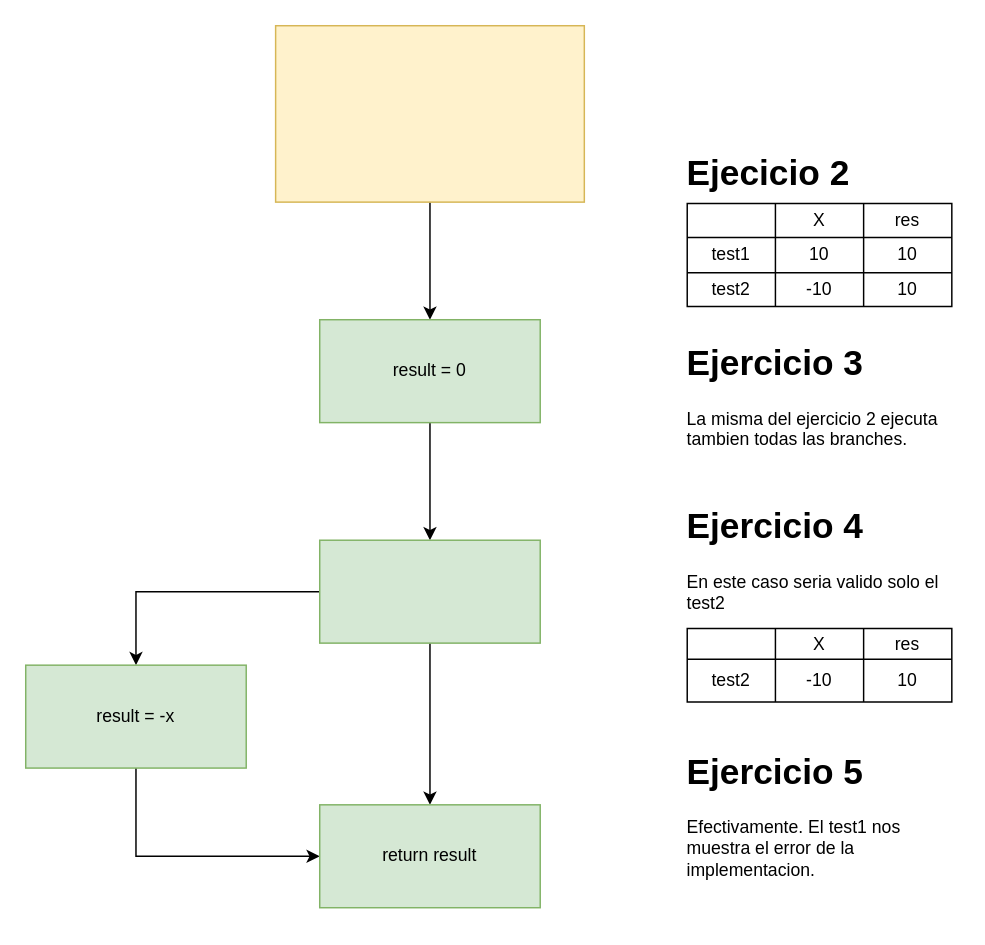
Some shapes in this 985 by 945 pixel diagram are drawn without their labels. The centre of each missing label's shape, as x and y in pixels:
fabs(x:float)->float:: point 429,113
if x < 0: point 429,591
